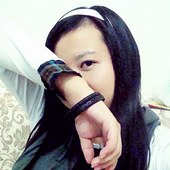face: (52, 28, 114, 120)
